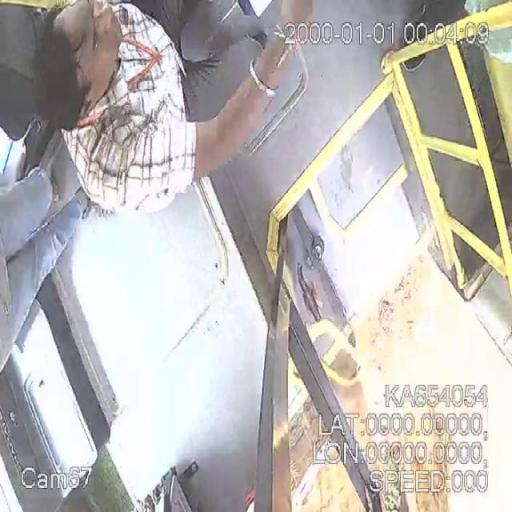persona: (29, 0, 324, 211)
